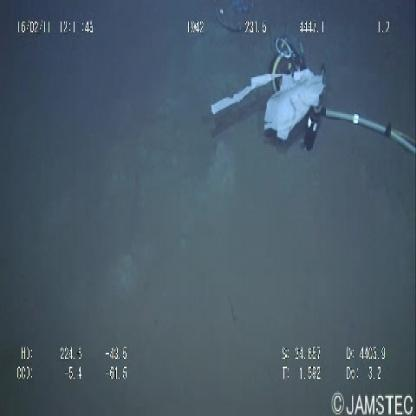Rác: (209, 60, 326, 146)
